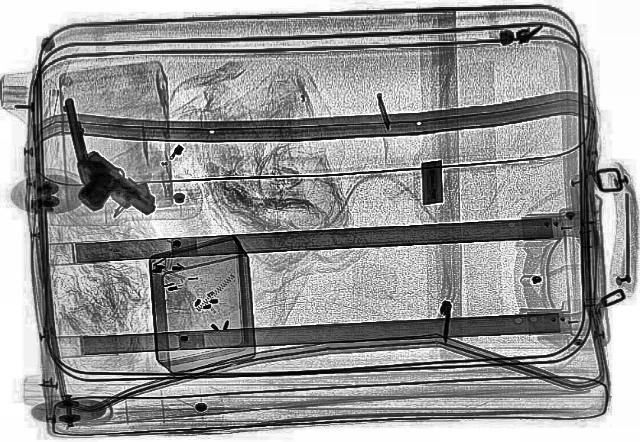Gun: (45, 145, 172, 231), (60, 94, 152, 210)
